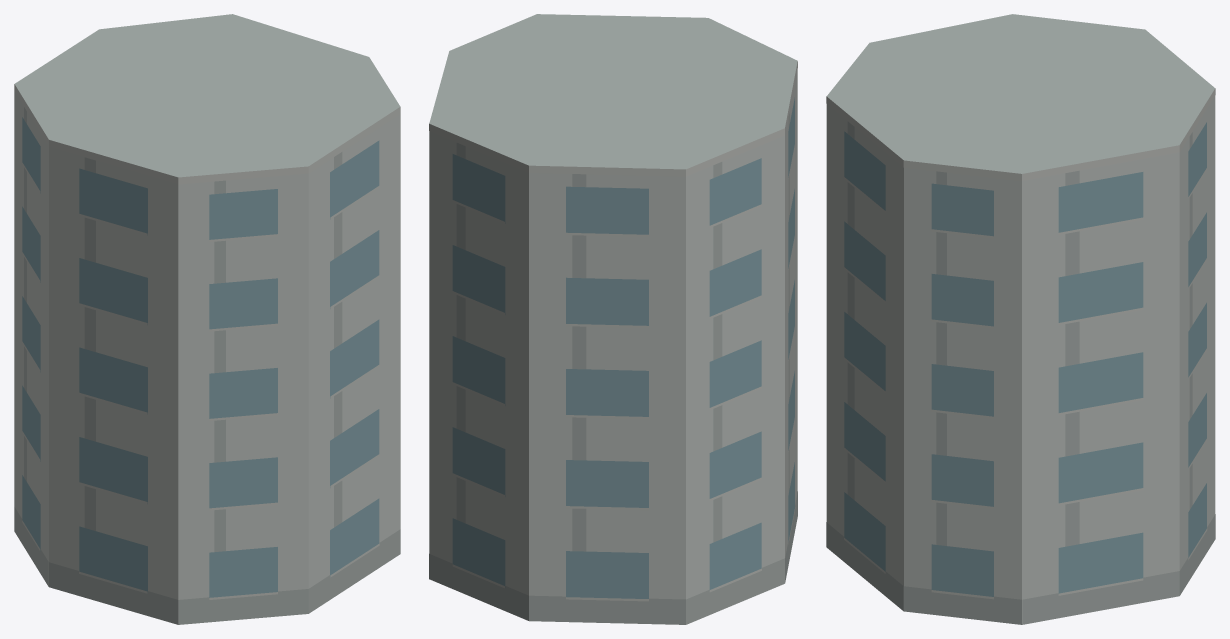
The model's file is survey-upis-32696437.glb.
The picture shows the model from 3 angles, left to right: view 1: azimuth 30°, elevation 25°; view 2: azimuth 150°, elevation 25°; view 3: azimuth 270°, elevation 25°; orthographic projection.
Parts seen in each view (by area): view 1: survey-upis-32696437.tmp; view 2: survey-upis-32696437.tmp; view 3: survey-upis-32696437.tmp.
Boxes of the visible parts, left/top/right/bottom form: survey-upis-32696437.tmp: left=14, top=14, right=400, bottom=624; survey-upis-32696437.tmp: left=429, top=14, right=797, bottom=624; survey-upis-32696437.tmp: left=826, top=14, right=1215, bottom=624.
Bounding box in the file's own units: 11.6 × 15.25 × 11.92.
